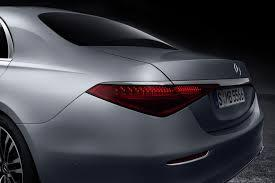mercedes: (229, 60, 243, 77)
